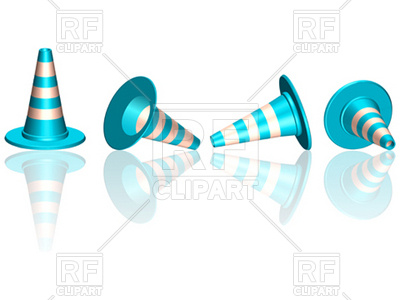blueC: (1, 47, 91, 157), (97, 73, 206, 159), (210, 73, 312, 156), (319, 73, 399, 157)
